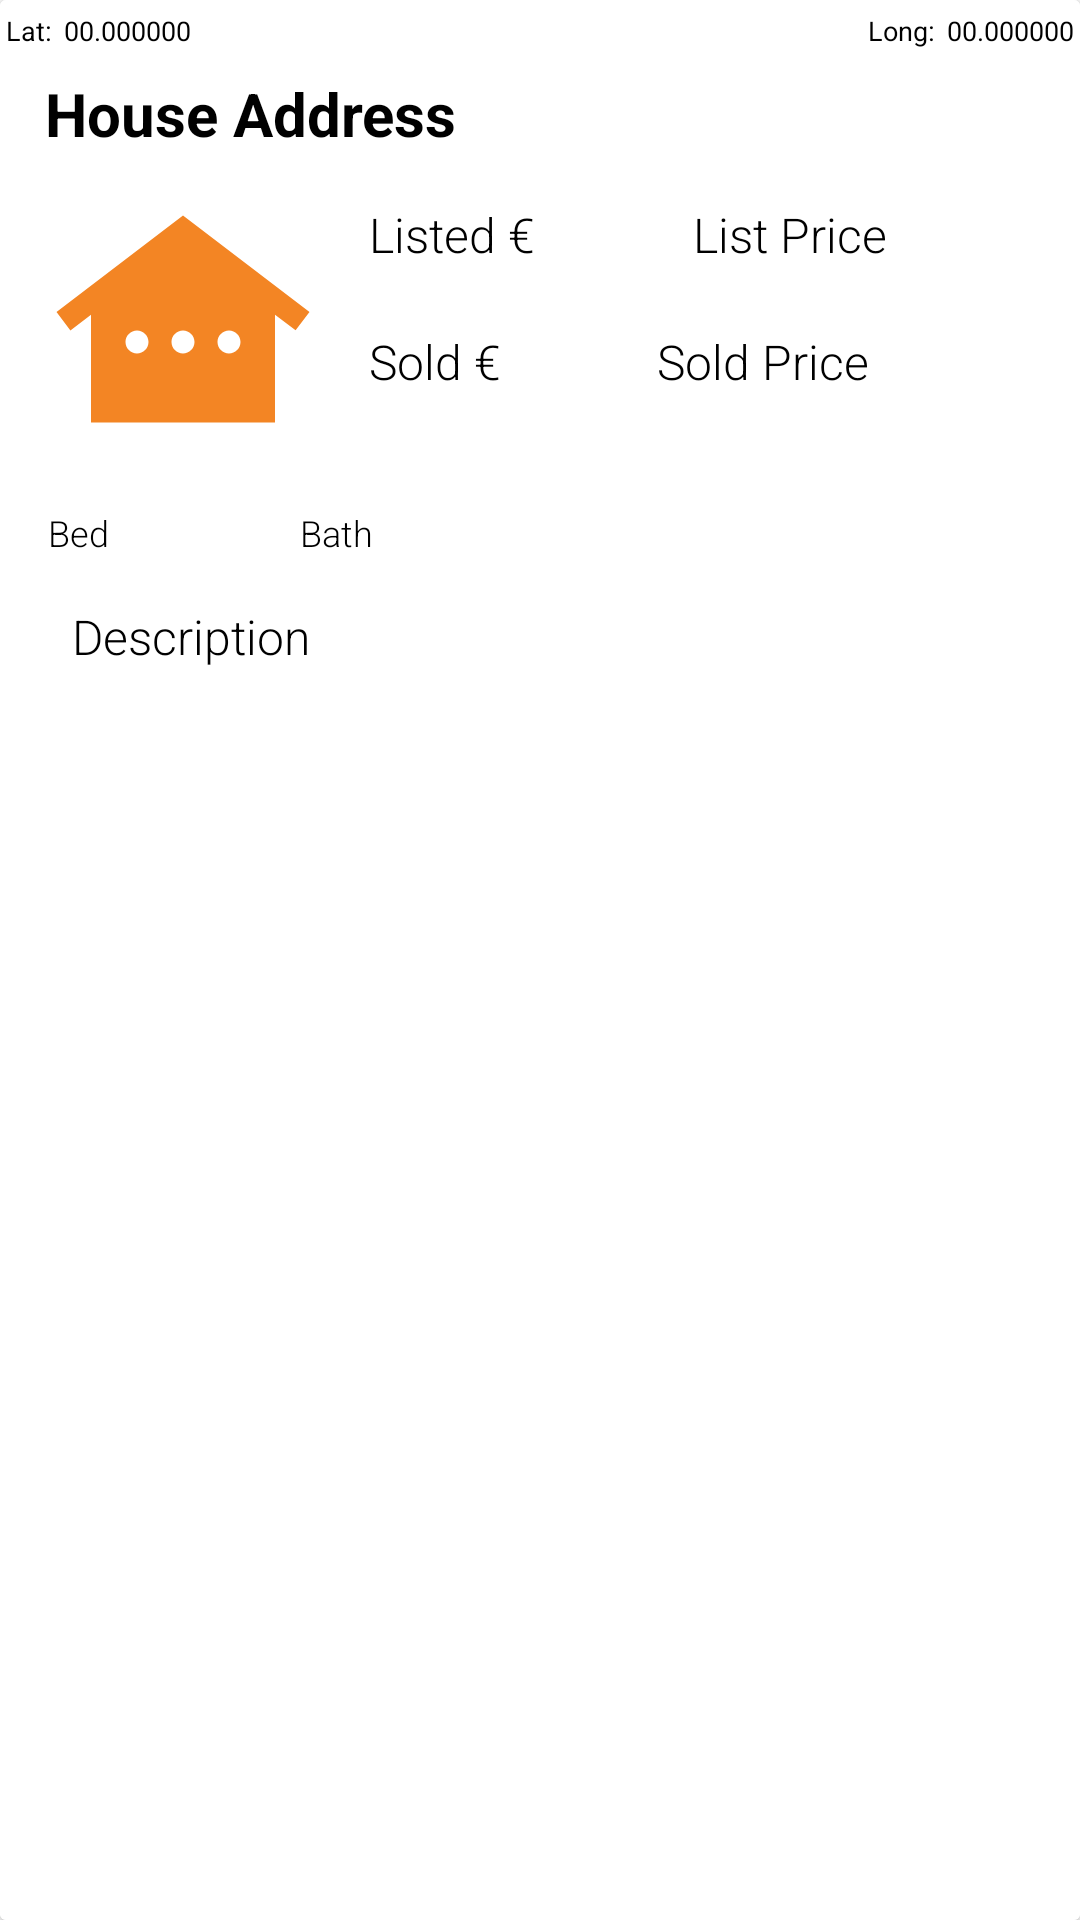

Point at icon controls on the screen. Image size 1080×1920, points as [x,y].
Change House Image: [183,319]
